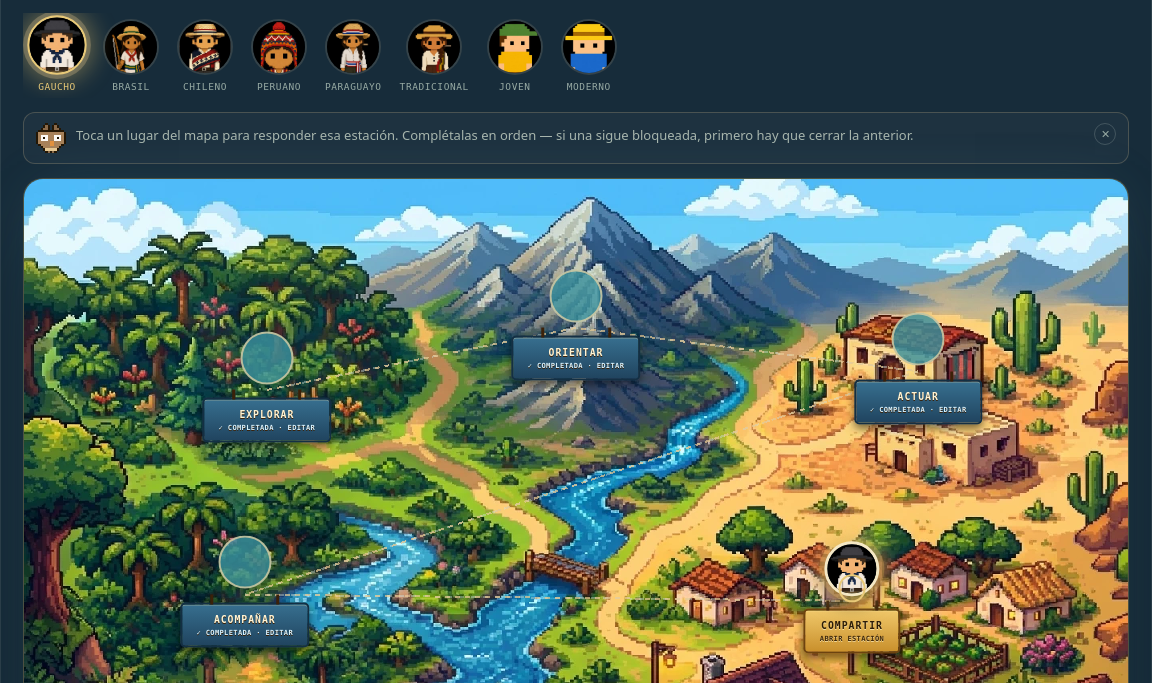
CaseForm — stations open as popups on the map, not as a list below it › uses the current case name and description instead of Alex template copy
The width and height of the screenshot is (1152, 683).
(page scrolled)
Click the button with aria-label "explorar en la selva": [267, 358] box [240,332,293,385]
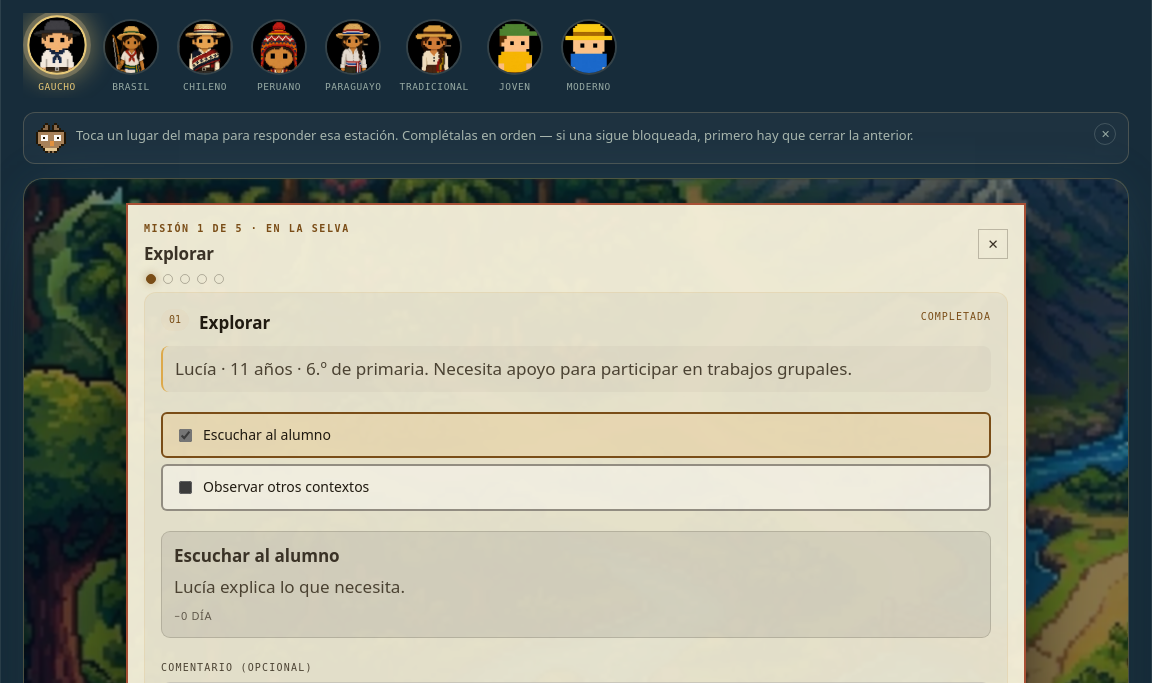
Check: the text "Necesita apoyo para participar" is shown, box [175,358,852,381]
Check: the text "Lucía explica lo que necesita." is shown, box [174,576,405,598]
